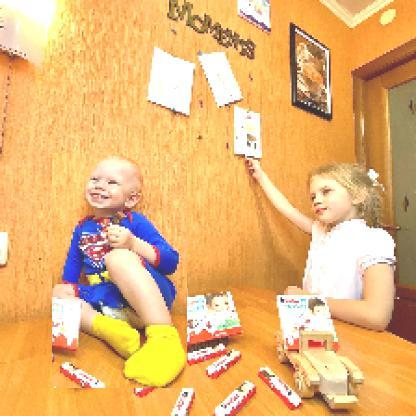child: (53, 154, 189, 390), (246, 164, 397, 331)
